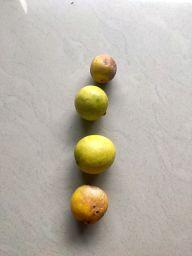lemon: (72, 134, 117, 176), (70, 183, 109, 227), (74, 84, 109, 122), (90, 53, 118, 85)
